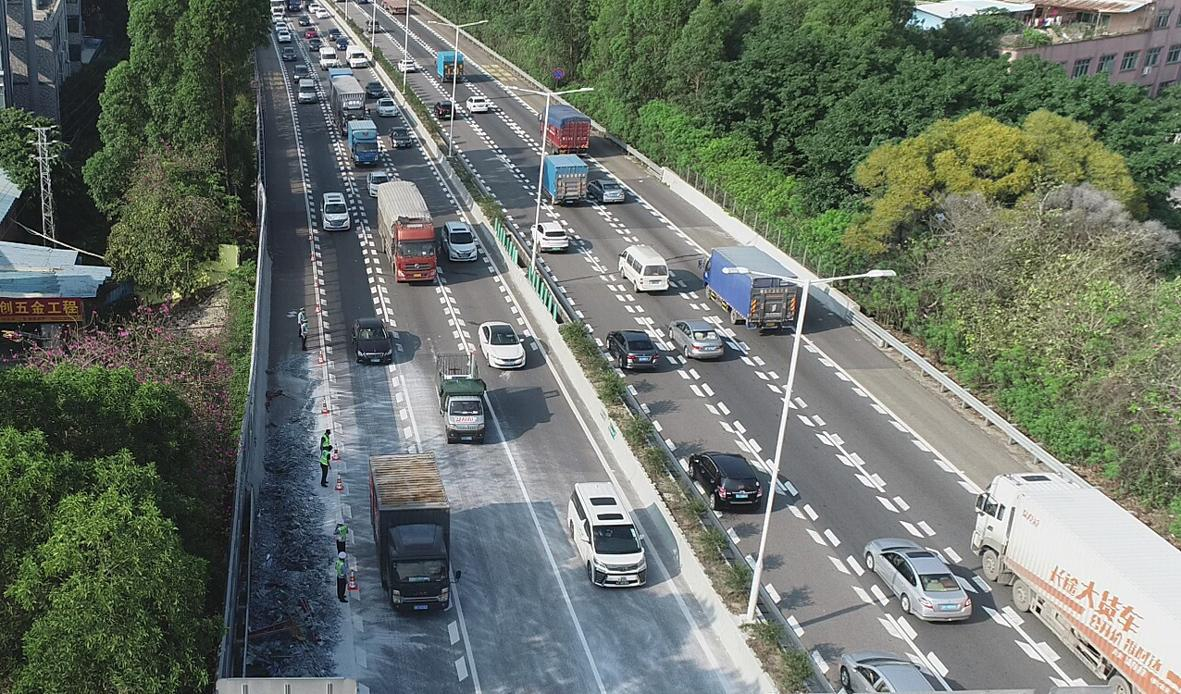car: (559, 474, 659, 598), (865, 535, 982, 617), (424, 360, 505, 440), (679, 442, 764, 500), (614, 241, 677, 306), (342, 314, 407, 372), (667, 315, 726, 376), (466, 314, 521, 369), (441, 215, 492, 270), (602, 323, 657, 370), (315, 190, 355, 242), (529, 208, 568, 251), (389, 127, 419, 168), (591, 174, 625, 210), (374, 98, 402, 127), (431, 95, 459, 123), (294, 77, 318, 107), (466, 93, 486, 122), (393, 56, 418, 76)
truck: (958, 449, 1181, 694), (356, 454, 463, 612), (706, 240, 810, 346), (365, 182, 441, 289), (536, 143, 590, 218), (530, 99, 593, 141), (325, 73, 368, 125), (344, 122, 384, 162)
